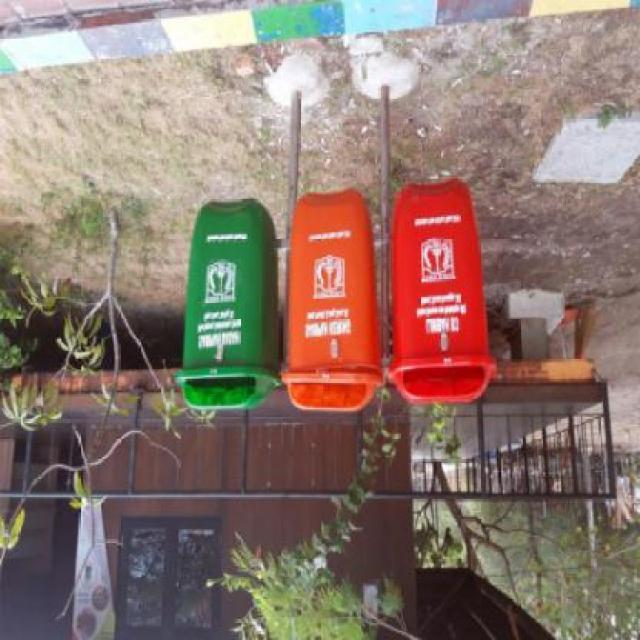garbage container: (385, 159, 501, 418), (280, 178, 391, 424), (171, 200, 284, 417)
